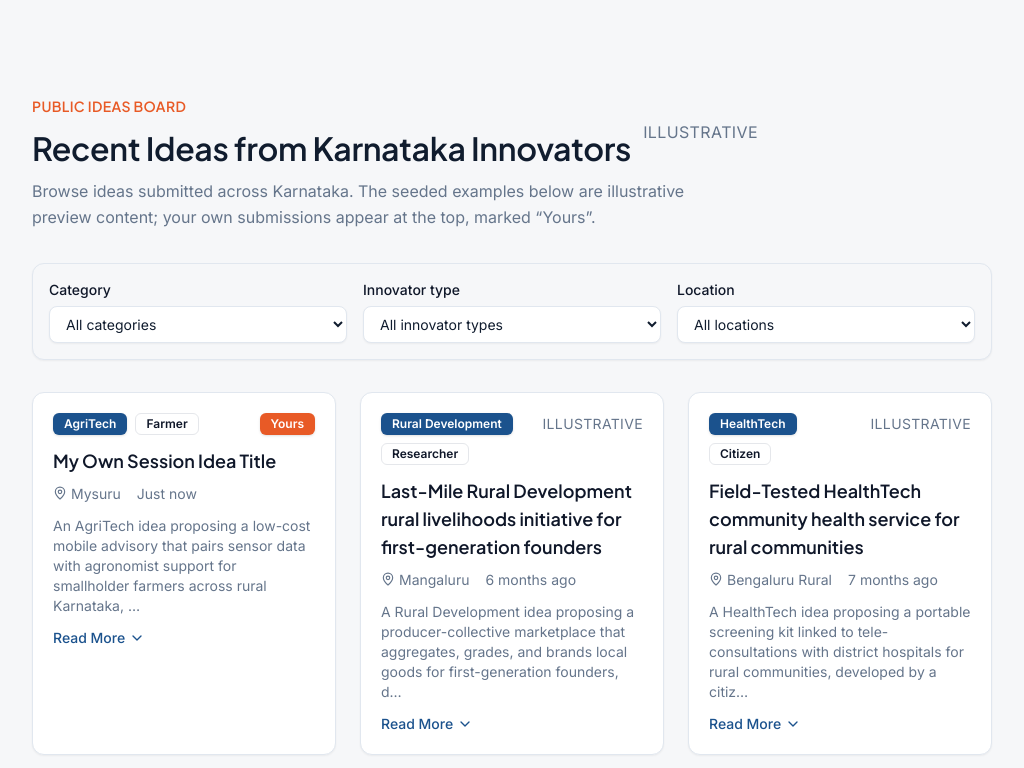
Scenario: PublicIdeasBoard › shows title, category + innovator-type badges, location, timestamp, truncated summary, and Read More on a card (Req 29.2)
This screenshot has width=1024, height=768.
Check: the heading "My Own Session Idea Title" is shown, box [53,447,315,475]
Check: the text "AgriTech" is shown, box [53,413,128,435]
Step 1. Click the button "Read More" below "My Own Session Idea Title" → (99, 638), box [53,628,145,648]
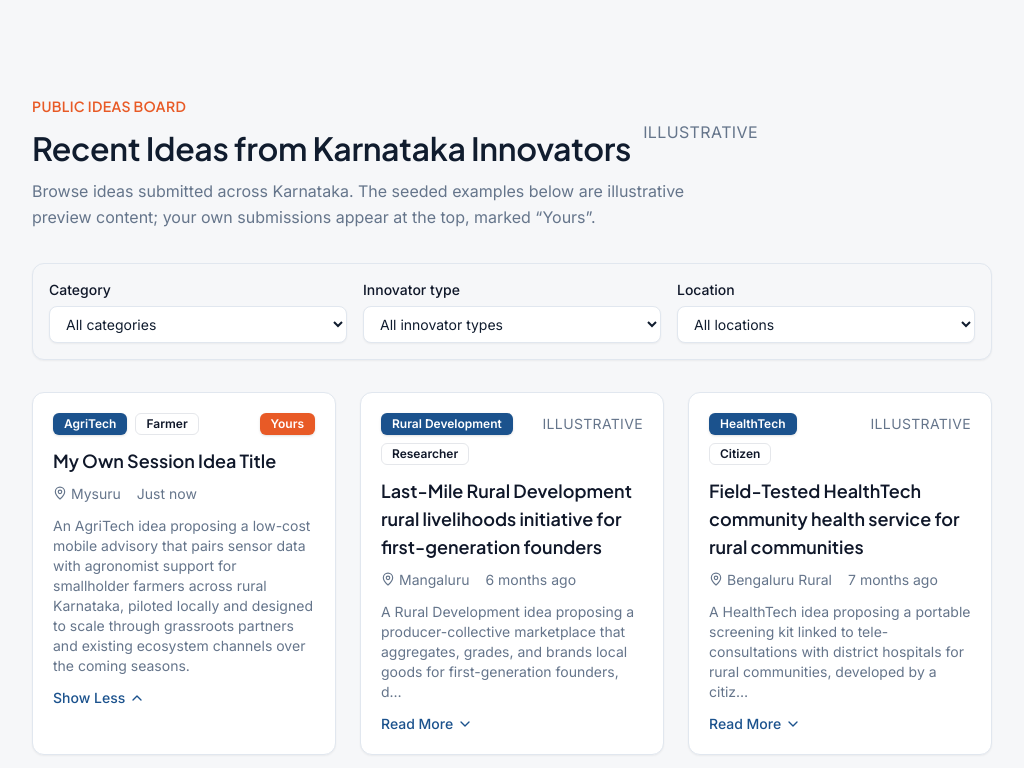
Check: the button "Show Less" is shown, box [53,688,145,708]
